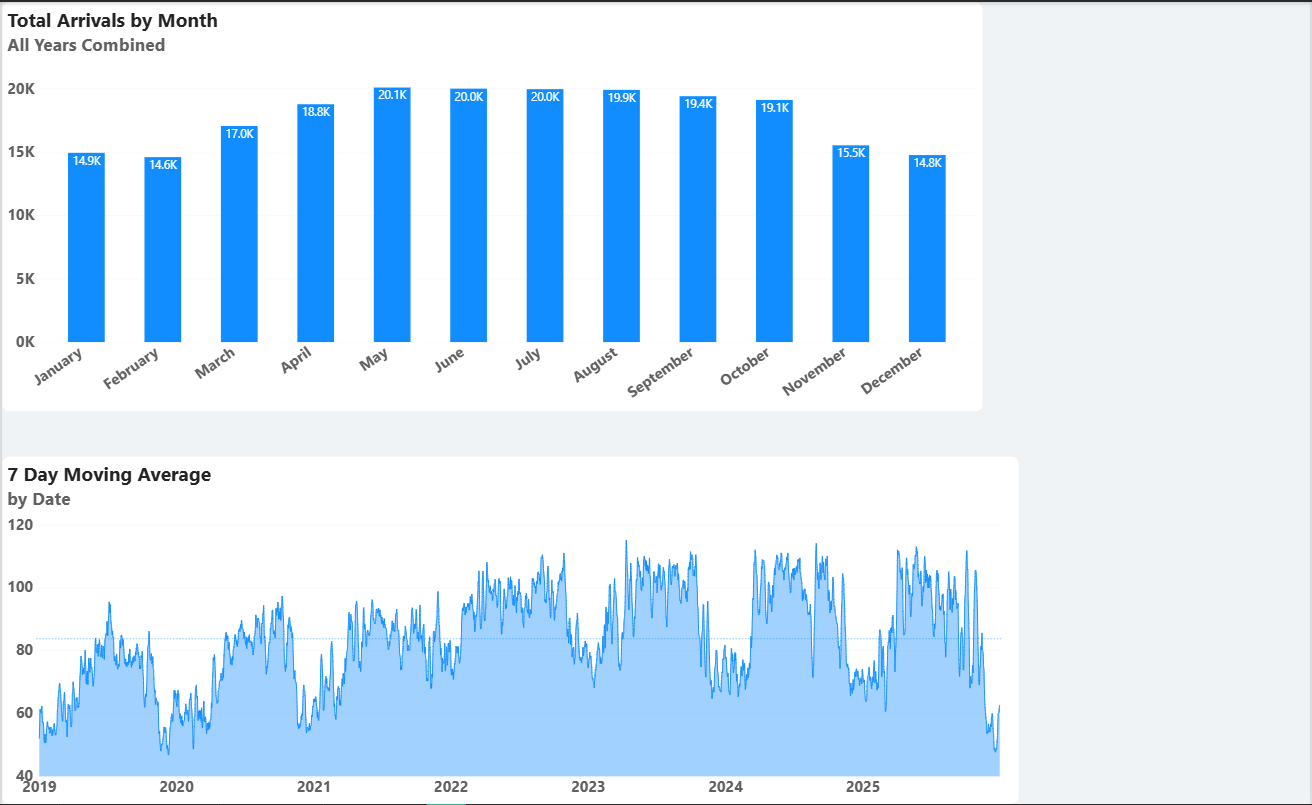

What the dashboard file says about the page in this screenshot:
{"tool":"powerbi","page":{"name":"Seasonality","canvas":[4206,2580],"ordinal":3},"visuals":[{"type":"areaChart","fields":{"Category":["Dim_Date.Date"],"Y":["Dim_Date.7 Day Moving Average"]},"box":[0,1460.5,3271.6,1119.5],"z":0},{"type":"clusteredColumnChart","title":"Total Arrivals by Month","fields":{"Category":["Dim_Date.Date.Variation.Date Hierarchy.Month"],"Y":["Dim_Date.Total Arrivals"]},"box":[0,0,3155.8,1319],"z":1000}]}

Visuals, with their boxes in screenshot pixels (x1, y1, x2, y2), scaled from the page's 4206x2580 canvas onto the 1312x805 screenshot:
areaChart - Dim_Date.Date x Dim_Date.7 Day Moving Average: x1=0 y1=456 x2=1021 y2=804
"Total Arrivals by Month" clusteredColumnChart: x1=0 y1=0 x2=984 y2=412
